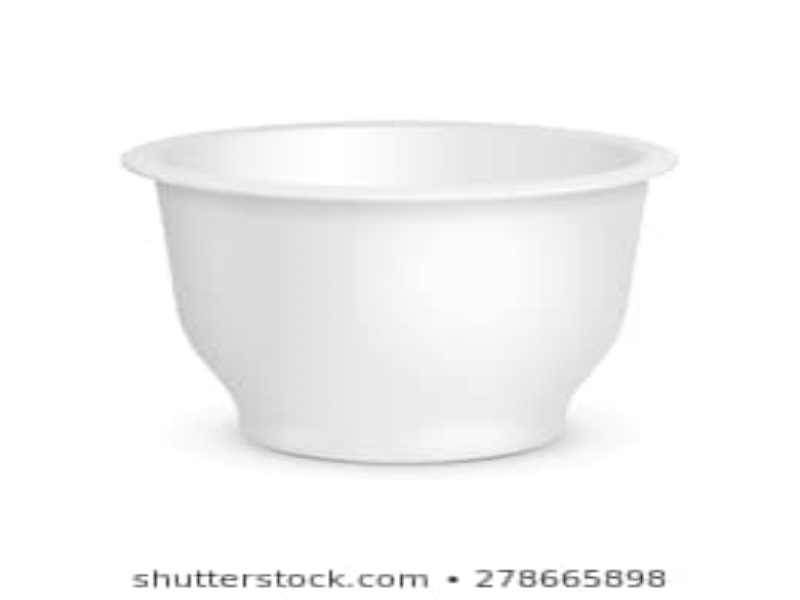yogurt-cup: (117, 116, 681, 464)
